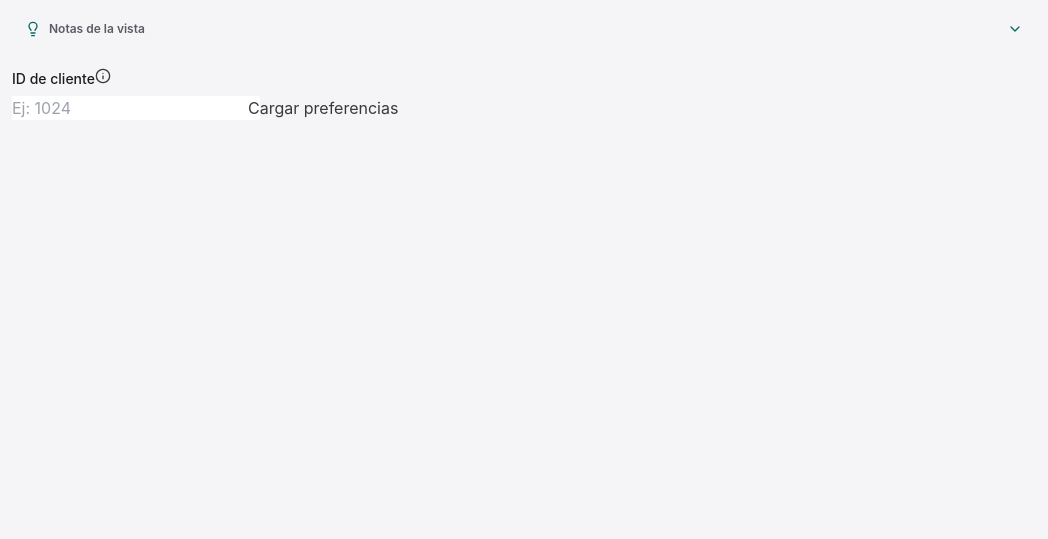
Test case: Preferencias de notificación de un cliente › un cliente sin preferencias lo dice
The image size is (1048, 539).
Type "7" into the field labelled "ID de cliente". click: (136, 108)
box: [12, 96, 260, 120]
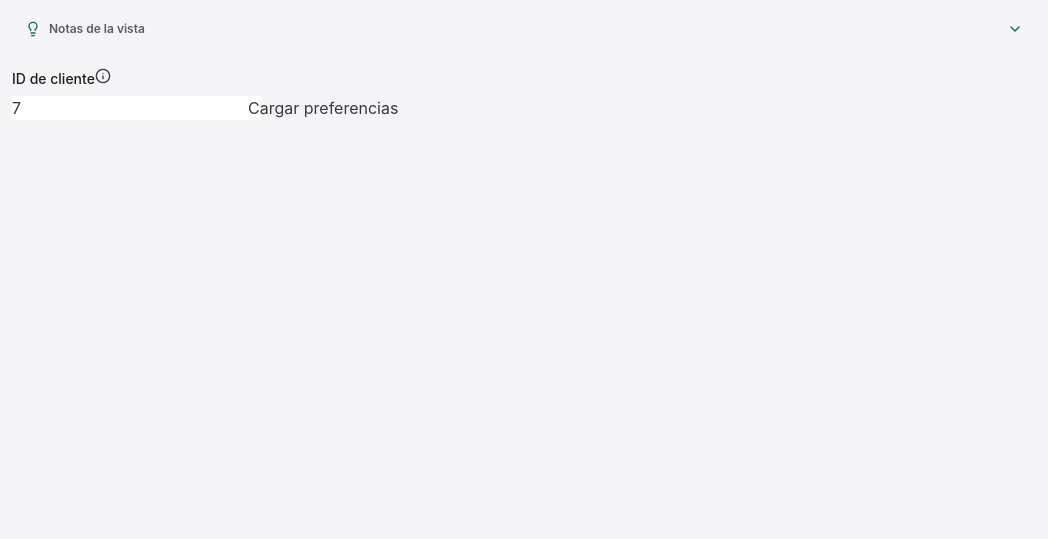
Click the button "Cargar preferencias". click: (323, 108)
box: [248, 96, 398, 120]
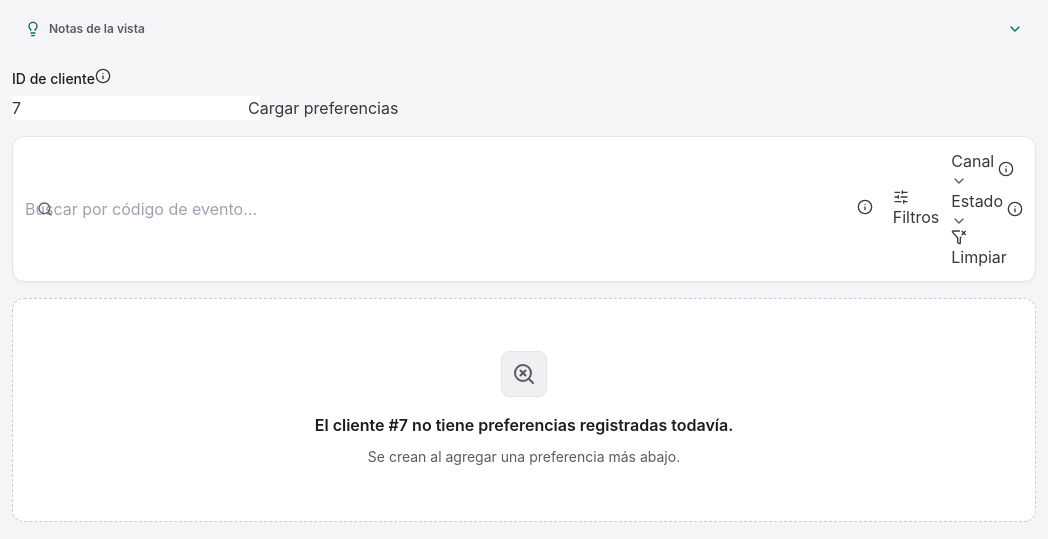
Result: the heading "El cliente #7 no tiene preferencias registradas todavía." is shown at [315, 413, 733, 437]
